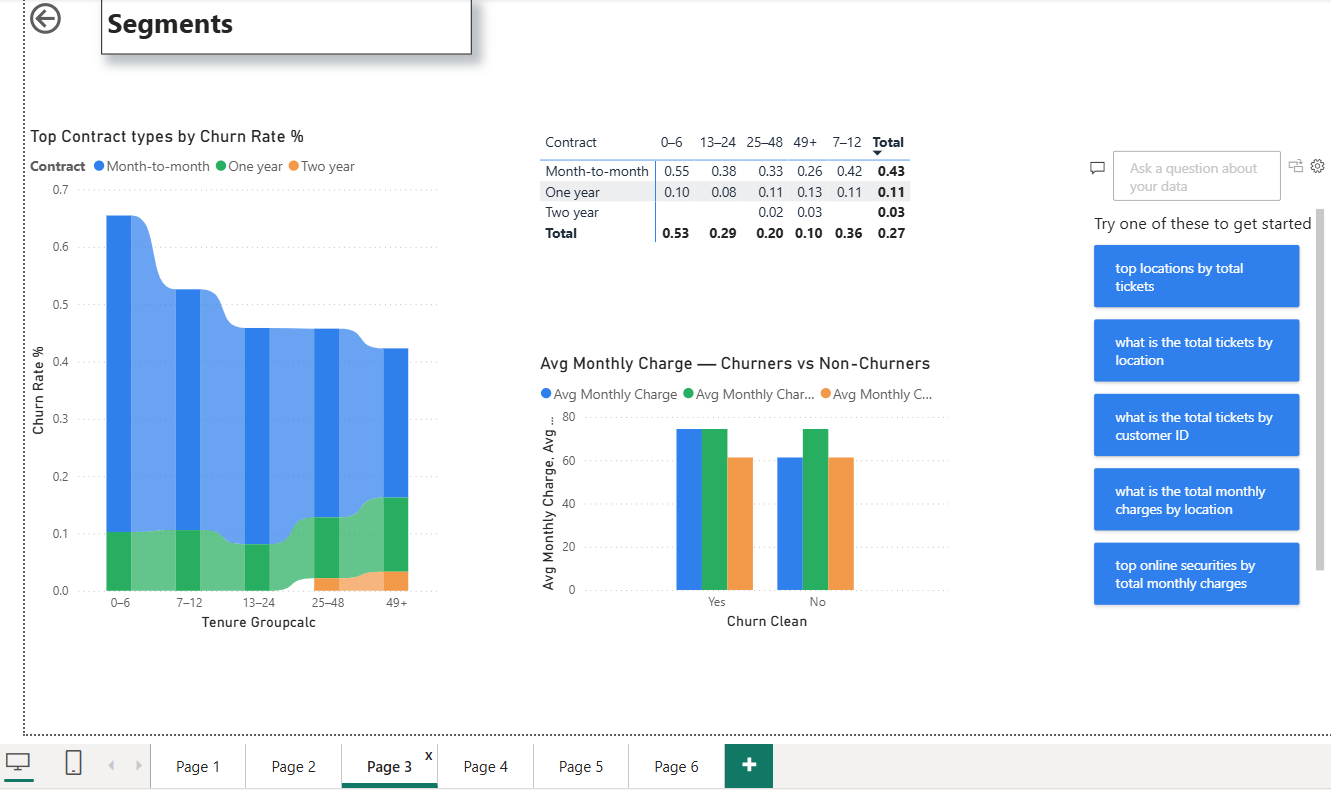

The dashboard page shown, as its layout file describes it:
{"tool":"powerbi","page":{"name":"Page 3","canvas":[1280,720],"ordinal":2},"visuals":[{"type":"pivotTable","fields":{"Rows":["data.Contract"],"Columns":["data.Tenure Groupcalc"],"Values":["data.Churn Rate %"]},"box":[498.9,124.4,398.9,210],"z":0},{"type":"ribbonChart","title":"Top Contract types by Churn Rate %","fields":{"Category":["data.Tenure Groupcalc"],"Series":["data.Contract"],"Y":["data.Churn Rate %"]},"box":[0,124.4,410,498.9],"z":1},{"type":"clusteredColumnChart","title":"Avg Monthly Charge — Churners vs Non-Churners","fields":{"Category":["data.Churn Clean"],"Y":["data.Avg Monthly Charge","data.Avg Monthly Charge (Churners)","data.Avg Monthly Charge (Non-Churners)"]},"box":[498.9,347.8,410,275.6],"z":2},{"type":"textbox","box":[74.4,0,362.2,55.6],"z":4},{"type":"qnaVisual","box":[1033.3,124.4,246.7,485.6],"z":5},{"type":"actionButton","box":[0,0,100,40],"z":6}]}

Visuals, with their boxes on the page's 1280x720 design canvas (x1, y1, x2, y2). These are canvas units, not pixel positions in the 1331x790 screenshot, which may show the page scaled, cropped or inside an application window:
pivotTable - data.Contract x data.Tenure Groupcalc: BBox(499, 124, 898, 334)
"Top Contract types by Churn Rate %" ribbonChart: BBox(0, 124, 410, 623)
"Avg Monthly Charge — Churners vs Non-Churners" clusteredColumnChart: BBox(499, 348, 909, 623)
textbox: BBox(74, 0, 437, 56)
qnaVisual: BBox(1033, 124, 1280, 610)
actionButton: BBox(0, 0, 100, 40)
